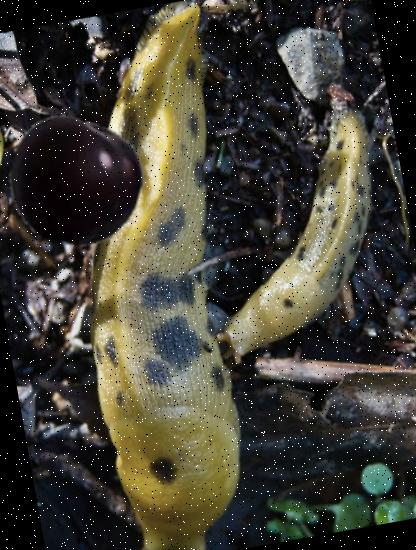Cherry: (0, 102, 154, 260)
